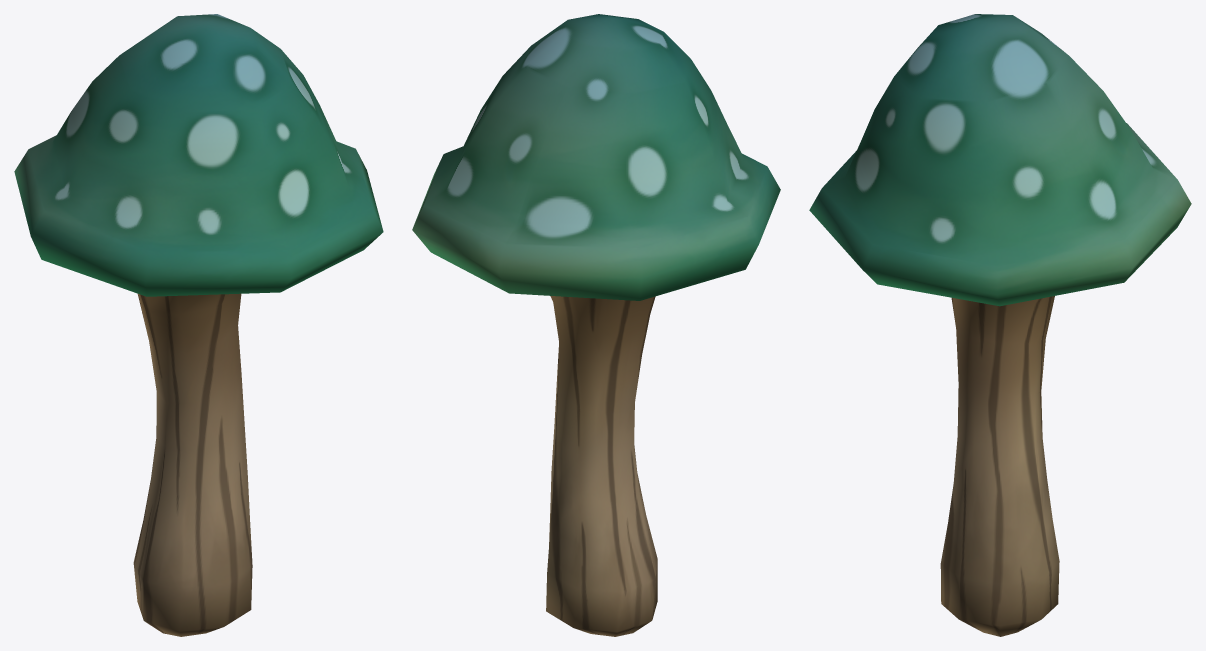
The model's file is ThinMashroom.fbx.
The picture shows the model from 3 angles, left to right: view 1: azimuth 30°, elevation 25°; view 2: azimuth 150°, elevation 25°; view 3: azimuth 270°, elevation 25°; orthographic projection.
Visible parts, largest first — view 1: Mushroom_Thin; view 2: Mushroom_Thin; view 3: Mushroom_Thin.
Boxes of the visible parts, x1,y1,x2,y2 form: Mushroom_Thin: [14, 14, 383, 636]; Mushroom_Thin: [412, 14, 780, 636]; Mushroom_Thin: [809, 14, 1191, 636].
Size of the model in its own units: 11.06 by 19.51 by 11.08.
1 material, 1 textured.
